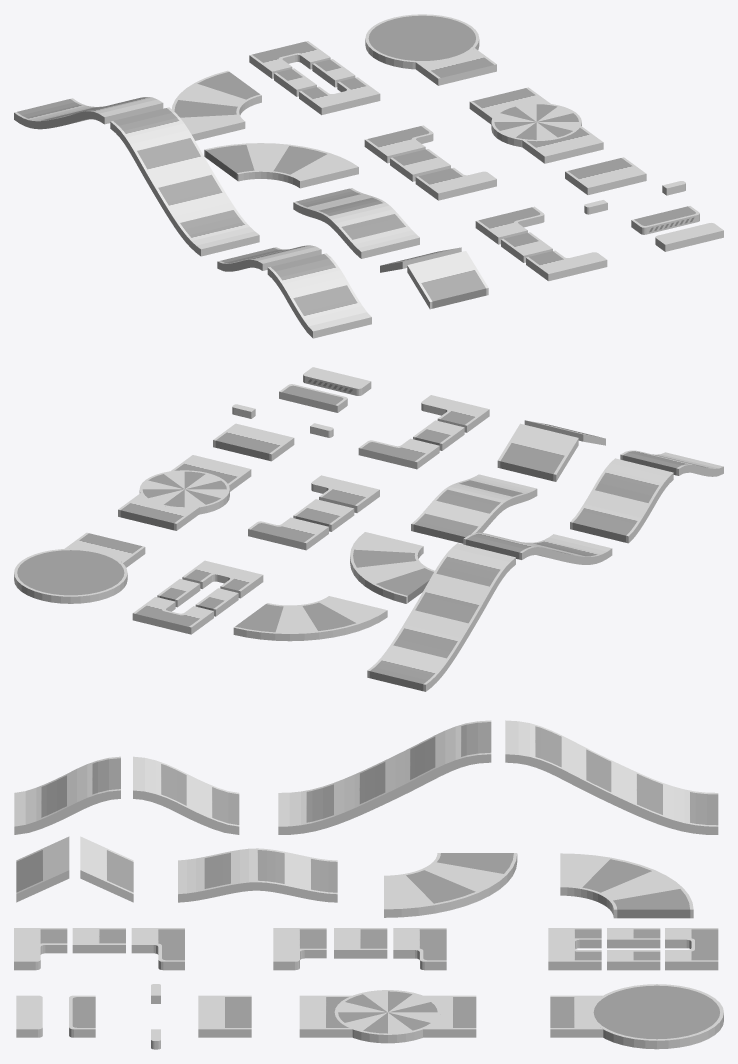
Rendered from Ramps.fbx.
3 views of the same model, one above another, from view 1: azimuth 30°, elevation 25°; view 2: azimuth 150°, elevation 25°; view 3: azimuth 270°, elevation 25° (orthographic). The views are drawn at different scales.
Visible parts, largest first — view 1: Ramp3, Ramp24, Ramp1, Ramp7, Ramp8, Ramp9, Ramp5, Ramp25, Ramp23, Ramp4, Ramp22, Ramp16 (+13 smaller); view 2: Ramp4, Ramp24, Ramp2, Ramp7, Ramp9, Ramp8, Ramp6, Ramp25, Ramp23, Ramp3, Ramp22, Ramp18 (+13 smaller); view 3: Ramp3, Ramp4, Ramp24, Ramp7, Ramp9, Ramp8, Ramp2, Ramp1, Ramp25, Ramp23, Ramp22, Ramp6 (+12 smaller).
Boxes of the visible parts, bbox=[...] form: Ramp3: bbox=[110, 107, 259, 256]; Ramp24: bbox=[365, 14, 496, 85]; Ramp1: bbox=[267, 253, 371, 338]; Ramp7: bbox=[293, 188, 419, 258]; Ramp8: bbox=[204, 143, 358, 188]; Ramp9: bbox=[172, 70, 261, 140]; Ramp5: bbox=[407, 251, 488, 309]; Ramp25: bbox=[491, 103, 581, 147]; Ramp23: bbox=[469, 87, 603, 163]; Ramp4: bbox=[14, 97, 163, 129]; Ramp22: bbox=[565, 157, 646, 194]; Ramp16: bbox=[299, 77, 380, 115]; Ramp4: bbox=[367, 543, 515, 691]; Ramp24: bbox=[14, 532, 145, 603]; Ramp2: bbox=[570, 458, 673, 543]; Ramp7: bbox=[411, 474, 537, 543]; Ramp9: bbox=[233, 596, 387, 641]; Ramp8: bbox=[350, 532, 434, 603]; Ramp6: bbox=[497, 423, 578, 481]; Ramp25: bbox=[139, 470, 229, 514]; Ramp23: bbox=[118, 455, 251, 530]; Ramp3: bbox=[463, 532, 612, 564]; Ramp22: bbox=[213, 423, 294, 461]; Ramp18: bbox=[132, 597, 213, 634]; Ramp3: bbox=[278, 720, 491, 834]; Ramp4: bbox=[505, 720, 718, 834]; Ramp24: bbox=[550, 984, 723, 1049]; Ramp7: bbox=[178, 848, 337, 902]; Ramp9: bbox=[560, 853, 693, 918]; Ramp8: bbox=[384, 853, 517, 917]; Ramp2: bbox=[133, 756, 239, 834]; Ramp1: bbox=[14, 756, 120, 834]; Ramp25: bbox=[334, 990, 440, 1043]; Ramp23: bbox=[299, 995, 476, 1037]; Ramp22: bbox=[198, 995, 251, 1037]; Ramp6: bbox=[80, 836, 133, 902].
Size of the model in its own units: 44.08 by 6.7 by 53.3.
Materials: 1 (1 with a texture image).
